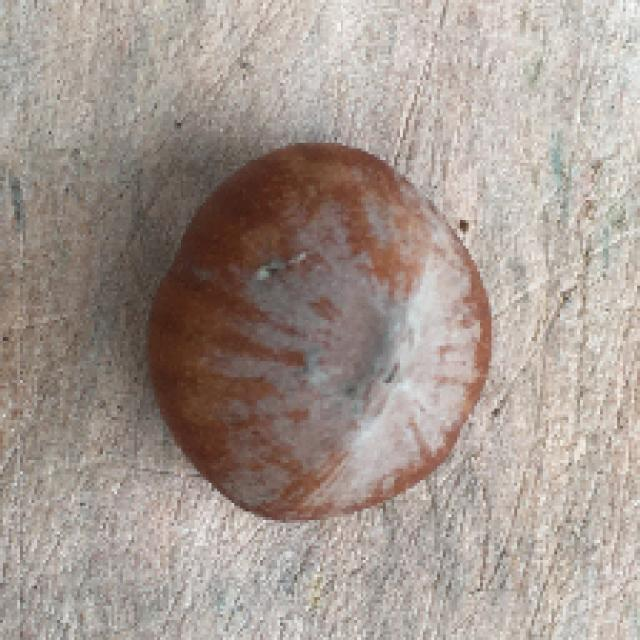hazelnut: (149, 132, 501, 533)
